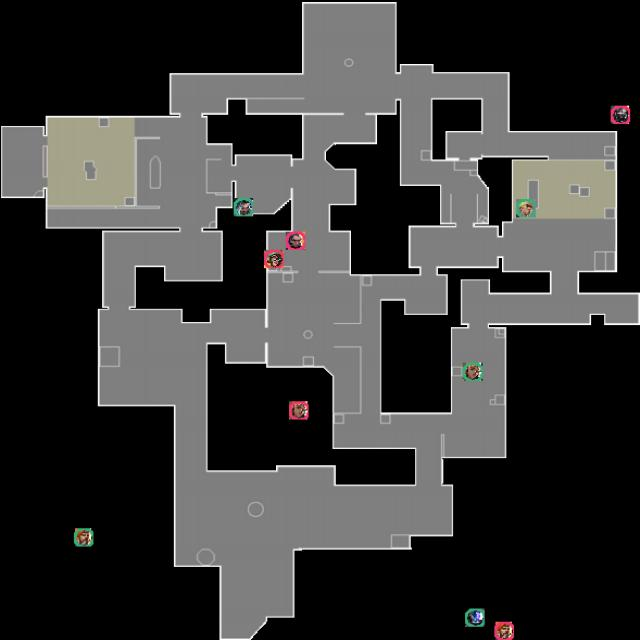atk_brimstone: (494, 621, 513, 640)
atk_killjoy: (264, 250, 284, 268)
atk_raze: (289, 401, 309, 420)
atk_reyna: (286, 232, 305, 250)
atk_viper: (611, 106, 630, 124)
def_brimstone: (74, 528, 93, 547)
def_fade: (234, 198, 253, 216)
def_gekko: (516, 199, 536, 218)
def_kayo: (465, 608, 485, 627)
def_raze: (463, 363, 482, 381)
